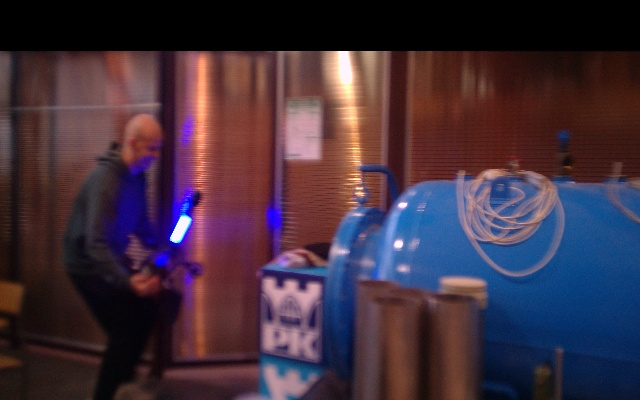blue: (170, 213, 191, 243)
